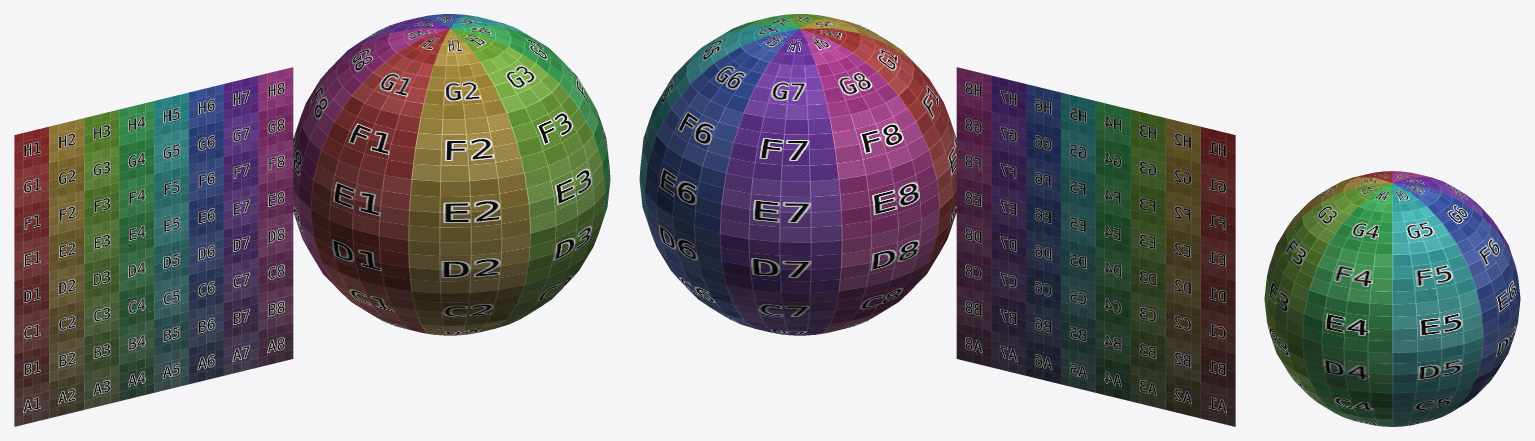
Rendered from gltfTest.gltf.
3 renders of one model, left to right at view 1: azimuth 30°, elevation 25°; view 2: azimuth 150°, elevation 25°; view 3: azimuth 270°, elevation 25°, orthographic. The views are drawn at different scales.
Parts seen in each view (by area): view 1: Plane, Sphere; view 2: Plane, Sphere; view 3: Sphere.
Boxes of the visible parts, left/top/right/bottom form: Plane: left=14, top=67, right=293, bottom=426; Sphere: left=293, top=14, right=610, bottom=335; Plane: left=956, top=67, right=1235, bottom=426; Sphere: left=639, top=14, right=956, bottom=335; Sphere: left=1264, top=171, right=1520, bottom=426.
Bounding box in the file's own units: 4.12 × 2 × 2.
1 material, 1 textured.
